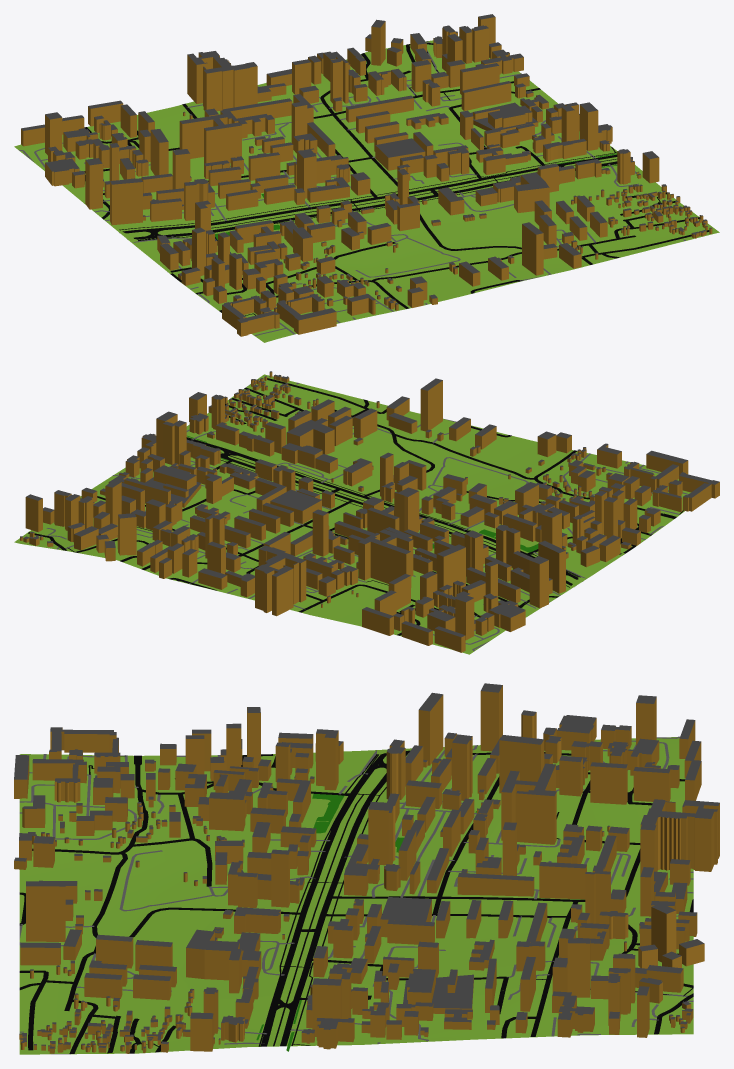
File: tile_08_04.glb
The picture shows the model from 3 angles, top to bottom: view 1: azimuth 30°, elevation 25°; view 2: azimuth 150°, elevation 25°; view 3: azimuth 270°, elevation 25°; orthographic projection. The views are drawn at different scales.
Visible parts, largest first — view 1: Ub_small.osm_buildings_08_04, Terrain_08_04, Ub_small.osm_roads_residential_08_04, Ub_small.osm_roads_service_08_04, Ub_small.osm_roads_trunk_08_04, Ub_small.osm_paths_footway_08_04, Ub_small.osm_roads_tertiary_08_04; view 2: Ub_small.osm_buildings_08_04, Terrain_08_04, Ub_small.osm_roads_residential_08_04, Ub_small.osm_roads_service_08_04, Ub_small.osm_roads_trunk_08_04, Ub_small.osm_roads_tertiary_08_04, Ub_small.osm_paths_footway_08_04; view 3: Ub_small.osm_buildings_08_04, Terrain_08_04, Ub_small.osm_roads_residential_08_04, Ub_small.osm_roads_service_08_04, Ub_small.osm_roads_trunk_08_04, Ub_small.osm_roads_tertiary_08_04, Ub_small.osm_paths_footway_08_04, Ub_small.osm_forest_08_04, Ub_small.osm_paths_cycleway_08_04.
Boxes of the visible parts, x1=… form: Ub_small.osm_buildings_08_04: x1=21, y1=14, x2=712, y2=336; Terrain_08_04: x1=14, y1=36, x2=719, y2=342; Ub_small.osm_roads_residential_08_04: x1=103, y1=42, x2=709, y2=308; Ub_small.osm_roads_service_08_04: x1=19, y1=41, x2=685, y2=335; Ub_small.osm_roads_trunk_08_04: x1=122, y1=154, x2=617, y2=239; Ub_small.osm_paths_footway_08_04: x1=119, y1=44, x2=660, y2=315; Ub_small.osm_roads_tertiary_08_04: x1=182, y1=103, x2=397, y2=312; Ub_small.osm_buildings_08_04: x1=20, y1=371, x2=719, y2=652; Terrain_08_04: x1=14, y1=374, x2=690, y2=654; Ub_small.osm_roads_residential_08_04: x1=28, y1=378, x2=652, y2=614; Ub_small.osm_roads_service_08_04: x1=46, y1=382, x2=688, y2=651; Ub_small.osm_roads_trunk_08_04: x1=186, y1=438, x2=578, y2=585; Ub_small.osm_roads_tertiary_08_04: x1=243, y1=484, x2=676, y2=612; Ub_small.osm_paths_footway_08_04: x1=67, y1=437, x2=683, y2=587; Ub_small.osm_buildings_08_04: x1=14, y1=683, x2=719, y2=1053; Terrain_08_04: x1=19, y1=737, x2=693, y2=1054; Ub_small.osm_roads_residential_08_04: x1=19, y1=754, x2=693, y2=1054; Ub_small.osm_roads_service_08_04: x1=19, y1=736, x2=693, y2=1054; Ub_small.osm_roads_trunk_08_04: x1=260, y1=750, x2=409, y2=1046; Ub_small.osm_roads_tertiary_08_04: x1=129, y1=755, x2=640, y2=917; Ub_small.osm_paths_footway_08_04: x1=88, y1=754, x2=693, y2=1047; Ub_small.osm_forest_08_04: x1=256, y1=794, x2=476, y2=1051; Ub_small.osm_paths_cycleway_08_04: x1=273, y1=754, x2=377, y2=1046.
Bounding box in the file's own units: 1022 × 124 × 974.
